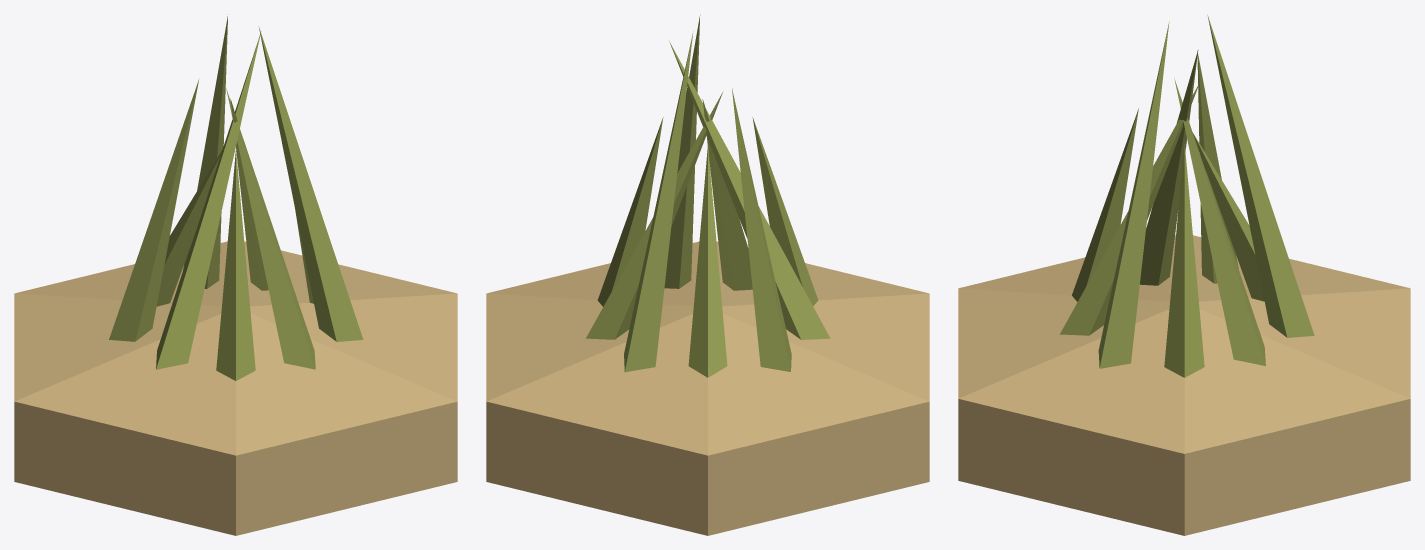
The model's file is pasto_duna.obj.
3 views of the same model, side by side, from view 1: azimuth 30°, elevation 25°; view 2: azimuth 150°, elevation 25°; view 3: azimuth 270°, elevation 25° (orthographic). The views are drawn at different scales.
Visible parts, largest first — view 1: pasto_duna; view 2: pasto_duna; view 3: pasto_duna.
Boxes of the visible parts, x1=… form: pasto_duna: x1=14, y1=14, x2=457, y2=535; pasto_duna: x1=486, y1=14, x2=929, y2=535; pasto_duna: x1=958, y1=15, x2=1410, y2=535.
Size of the model in its own units: 1.56 by 1.5 by 1.35.
